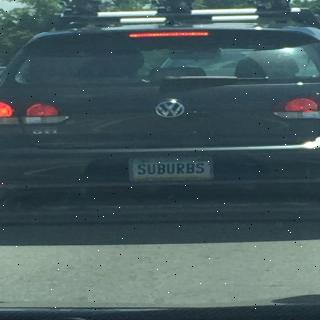license: (128, 157, 215, 184)
